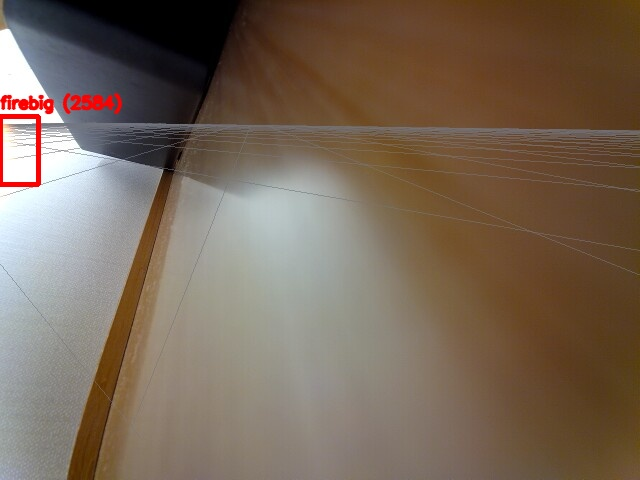firebig: (0, 116, 38, 184)
